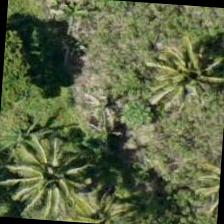Kelapa_Sawit: (8, 126, 104, 222), (148, 28, 223, 125), (54, 173, 149, 223)
